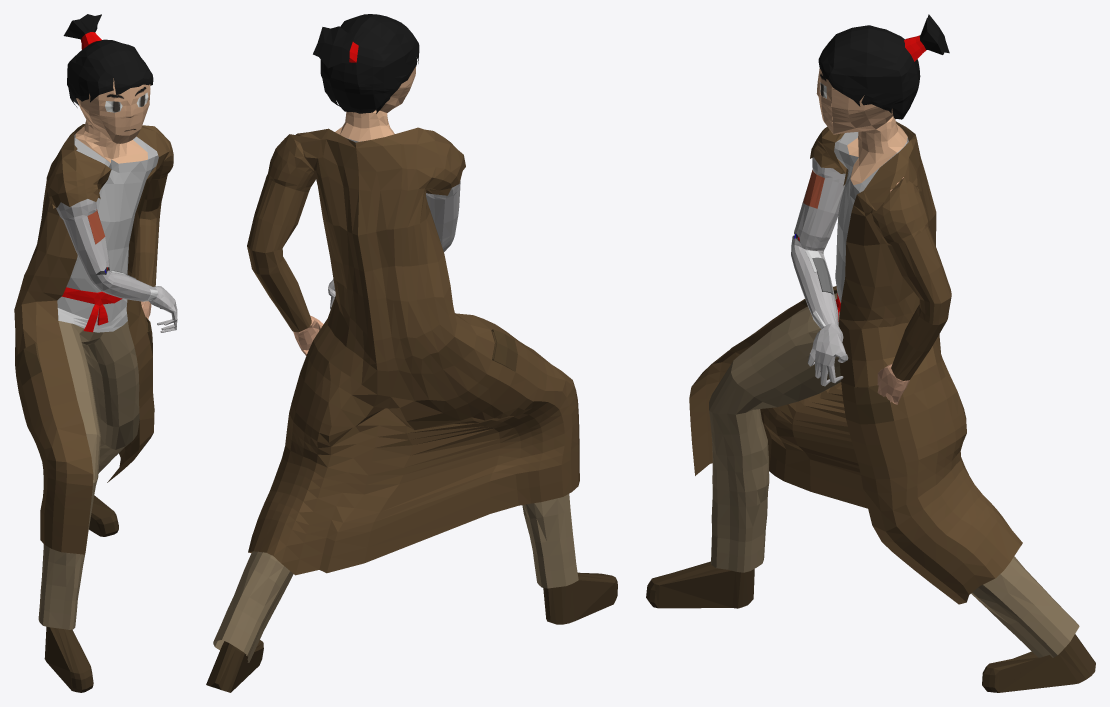
File: One_RR_000009.obj
3 views of the same model, side by side, from view 1: azimuth 30°, elevation 25°; view 2: azimuth 150°, elevation 25°; view 3: azimuth 270°, elevation 25° (orthographic). The views are drawn at different scales.
Parts seen in each view (by area): view 1: Hair_Cube.004; view 2: Hair_Cube.004; view 3: Hair_Cube.004.
Part boxes in pixels (box(x1,y1,x2,y2)): Hair_Cube.004: box(14, 14, 177, 692); Hair_Cube.004: box(206, 14, 617, 692); Hair_Cube.004: box(646, 14, 1095, 692).
Size of the model in its own units: 1.4 by 3.62 by 2.26.
